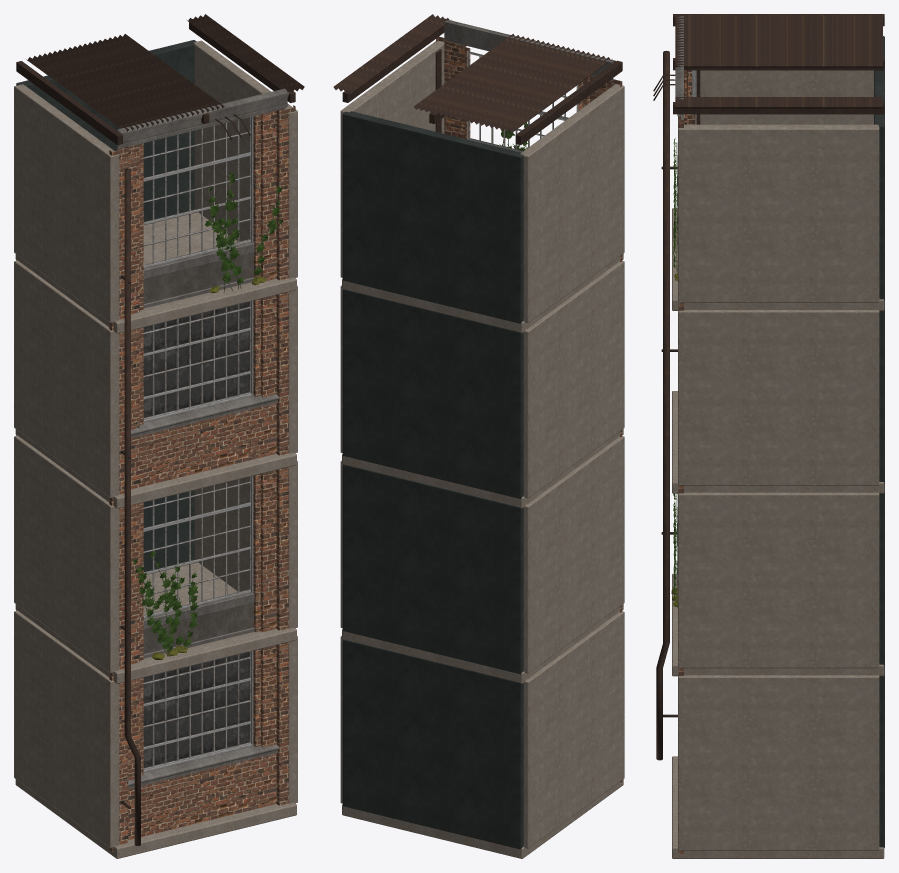
Rendered from f3_v2_factory_bay.glb.
3 views of the same model, side by side, from view 1: azimuth 30°, elevation 25°; view 2: azimuth 150°, elevation 25°; view 3: azimuth 270°, elevation 25° (orthographic). The views are drawn at different scales.
Parts seen in each view (by area): view 1: f3_weathered_concrete_surface, modular_factory_facade_brick_surface, f3_oxidized_iron_surface, modular_factory_facade_windows_glass_surface, modular_factory_facade_windows_surface, modular_factory_facade_trim_01_surface, v2_factory_room_shadow_surface, f3_lobed_ivy_veined_surface; view 2: v2_factory_room_shadow_surface, f3_weathered_concrete_surface, f3_oxidized_iron_surface, modular_factory_facade_brick_surface, modular_factory_facade_trim_01_surface, modular_factory_facade_windows_surface; view 3: f3_weathered_concrete_surface, f3_oxidized_iron_surface, v2_factory_room_shadow_surface, f3_lobed_ivy_veined_surface, modular_factory_facade_brick_surface, modular_factory_facade_trim_01_surface, f3_ivy_woody_stem_surface.
Part boxes in pixels (box(x1,y1,x2,y2)): f3_weathered_concrete_surface: box(14, 40, 297, 858); modular_factory_facade_brick_surface: box(109, 105, 295, 851); f3_oxidized_iron_surface: box(16, 14, 304, 845); modular_factory_facade_windows_glass_surface: box(143, 301, 249, 768); modular_factory_facade_windows_surface: box(143, 116, 253, 771); modular_factory_facade_trim_01_surface: box(117, 88, 289, 789); v2_factory_room_shadow_surface: box(16, 40, 196, 572); f3_lobed_ivy_veined_surface: box(132, 172, 282, 651); v2_factory_room_shadow_surface: box(342, 111, 523, 849); f3_weathered_concrete_surface: box(340, 40, 624, 858); f3_oxidized_iron_surface: box(333, 14, 622, 144); modular_factory_facade_brick_surface: box(436, 36, 622, 783); modular_factory_facade_trim_01_surface: box(444, 20, 615, 81); modular_factory_facade_windows_surface: box(467, 50, 578, 152); f3_weathered_concrete_surface: box(672, 70, 884, 858); f3_oxidized_iron_surface: box(653, 14, 884, 760); v2_factory_room_shadow_surface: box(874, 36, 884, 848); f3_lobed_ivy_veined_surface: box(673, 138, 676, 600); modular_factory_facade_brick_surface: box(678, 70, 695, 854); modular_factory_facade_trim_01_surface: box(675, 16, 683, 119); f3_ivy_woody_stem_surface: box(675, 142, 677, 607).
Size of the model in its own units: 3.47 by 12.43 by 3.45.
10 materials, 10 textured.
